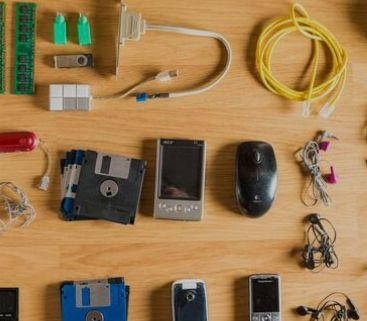electronic: (100, 2, 233, 102), (257, 2, 350, 116), (61, 148, 147, 224), (152, 136, 208, 221), (234, 140, 279, 217), (297, 132, 338, 206), (0, 131, 51, 189), (60, 278, 127, 320), (109, 3, 143, 78), (12, 3, 37, 93), (302, 213, 338, 271), (59, 150, 84, 217), (249, 273, 283, 319), (171, 279, 209, 320), (300, 293, 355, 320), (48, 83, 91, 111), (0, 131, 37, 153), (0, 2, 7, 95), (0, 287, 19, 320), (54, 53, 93, 68), (53, 12, 67, 45), (77, 13, 91, 46)
